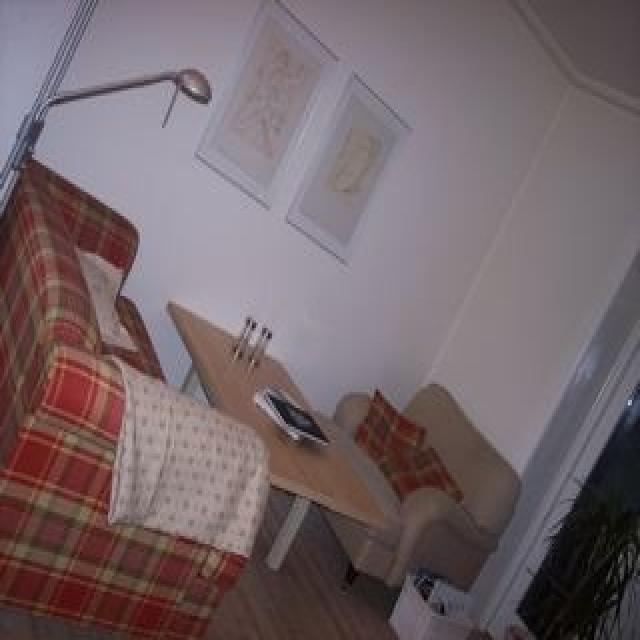pottedplant: (505, 481, 639, 638)
sofa: (1, 159, 273, 639), (321, 380, 521, 606)
